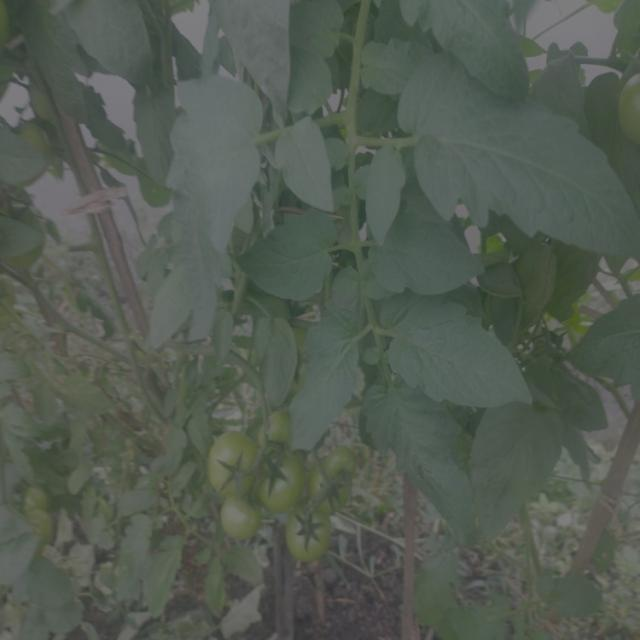tomato: (204, 434, 261, 494), (289, 510, 338, 564), (266, 453, 308, 508), (313, 452, 355, 504), (16, 124, 53, 180), (219, 500, 262, 537), (28, 489, 54, 547), (622, 73, 640, 152), (266, 412, 291, 445)
